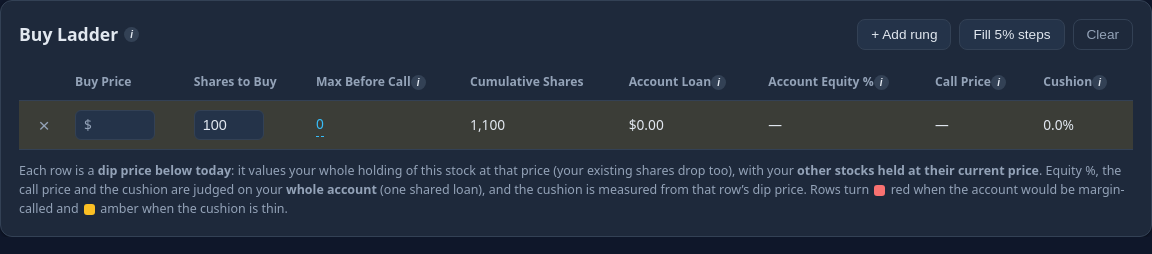
LadderTable inputs — leading-zero / empty-field bug › the price field behaves the same way (strips leading zero)
Step 1. Type "085" into the field named "Buy price" → [123, 125], box x1=92 y1=111 x2=154 y2=139
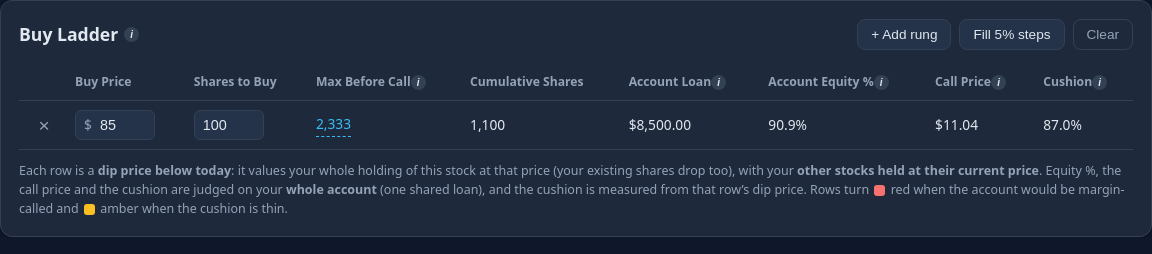
Expected: the field named "Buy price" holds "85", x1=92 y1=111 x2=154 y2=139
